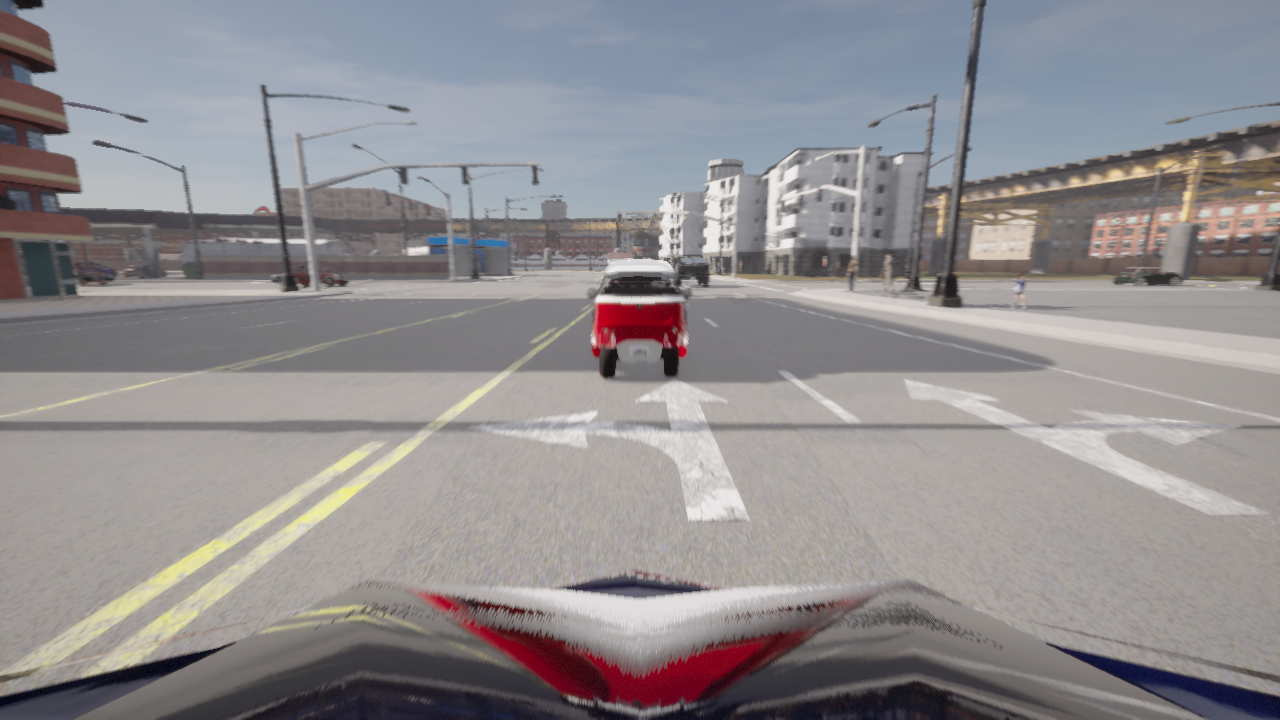cyclist: (0, 569, 1279, 719), (587, 260, 691, 378), (1112, 267, 1182, 286), (291, 265, 349, 287), (674, 258, 709, 286), (74, 269, 114, 285), (73, 263, 116, 275), (124, 265, 166, 277), (270, 274, 283, 285)
pedestrian: (879, 253, 899, 298), (1011, 273, 1027, 309), (847, 257, 856, 291), (881, 274, 893, 294)
